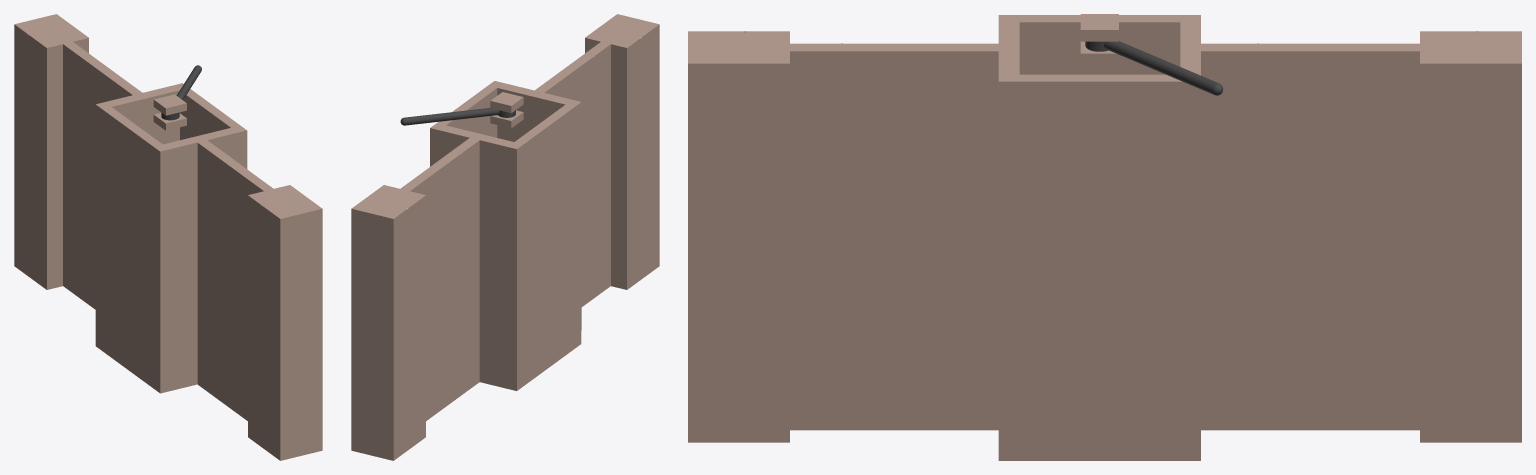
File: Nivel10.fbx
3 views of the same model, side by side, from view 1: azimuth 30°, elevation 25°; view 2: azimuth 150°, elevation 25°; view 3: azimuth 270°, elevation 25° (orthographic). The views are drawn at different scales.
Parts seen in each view (by area): view 1: N1-Plataforma.006, Plataforma-M.013, Plataforma-M.014, N1-Plataforma.007, N1-Plataforma.008, Cubo.034, Círculo.006; view 2: N1-Plataforma.006, Plataforma-M.014, N1-Plataforma.008, Plataforma-M.013, N1-Plataforma.007, Círculo.006, Cubo.034; view 3: N1-Plataforma.006, N1-Plataforma.008, N1-Plataforma.007, Plataforma-M.014, Plataforma-M.013, Círculo.006, Cubo.034.
Boxes of the visible parts, left/top/right/bottom form: N1-Plataforma.006: left=95, top=83, right=247, bottom=393; Plataforma-M.013: left=248, top=185, right=322, bottom=460; Plataforma-M.014: left=14, top=14, right=88, bottom=289; N1-Plataforma.007: left=197, top=140, right=275, bottom=420; N1-Plataforma.008: left=63, top=42, right=142, bottom=309; Cubo.034: left=153, top=94, right=186, bottom=130; Círculo.006: left=161, top=65, right=201, bottom=120; N1-Plataforma.006: left=430, top=81, right=581, bottom=390; Plataforma-M.014: left=351, top=185, right=425, bottom=460; N1-Plataforma.008: left=400, top=138, right=479, bottom=420; Plataforma-M.013: left=585, top=14, right=659, bottom=289; N1-Plataforma.007: left=535, top=40, right=611, bottom=306; Círculo.006: left=400, top=108, right=515, bottom=125; Cubo.034: left=490, top=92, right=523, bottom=128; N1-Plataforma.006: left=998, top=15, right=1200, bottom=460; N1-Plataforma.008: left=1201, top=43, right=1419, bottom=430; N1-Plataforma.007: left=784, top=43, right=998, bottom=430; Plataforma-M.014: left=1420, top=31, right=1521, bottom=442; Plataforma-M.013: left=688, top=31, right=789, bottom=442; Círculo.006: left=1085, top=41, right=1223, bottom=95; Cubo.034: left=1080, top=14, right=1118, bottom=65.
Size of the model in its own units: 3191 by 7100 by 13256.
